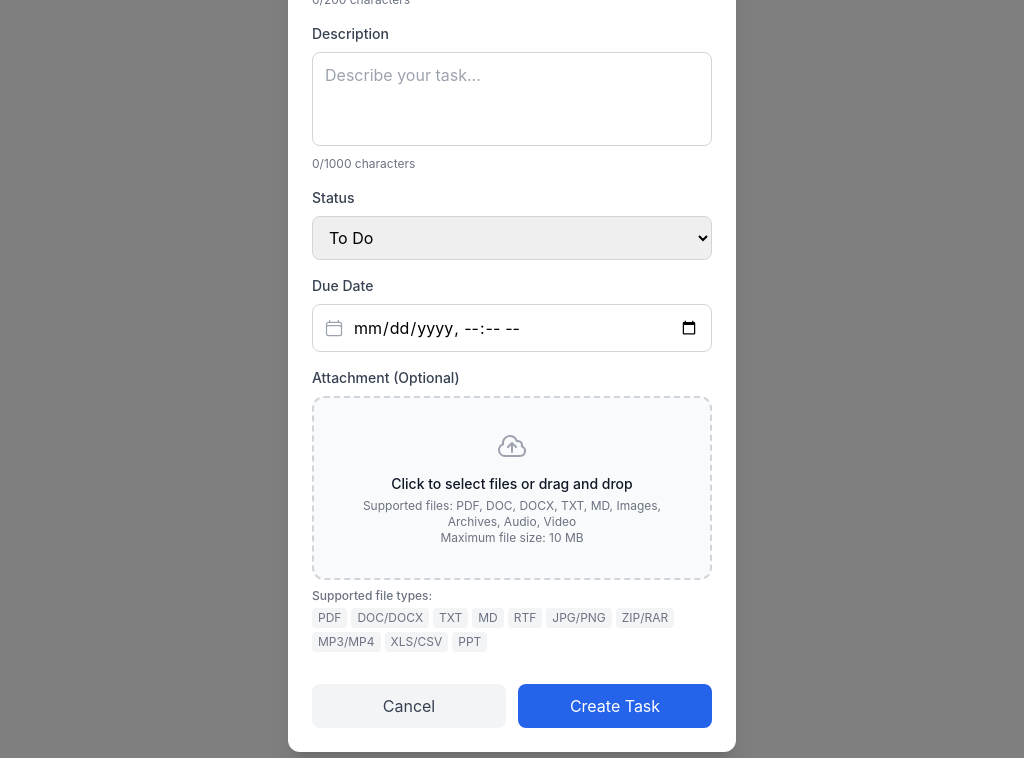
Test case: TaskForm Component › validates required fields
(page scrolled)
Click the button "Create Task" at x=615, y=706, box [518, 684, 712, 728]
(page scrolled)
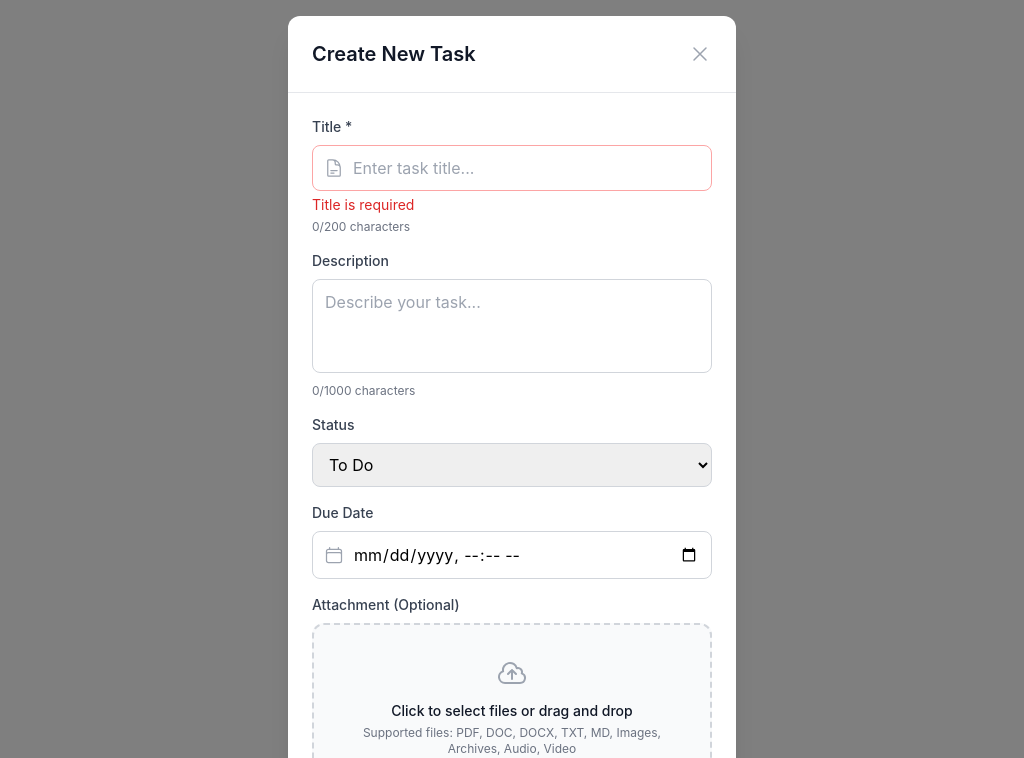
Check: the text "Title is required" is shown, box [312, 196, 414, 213]
